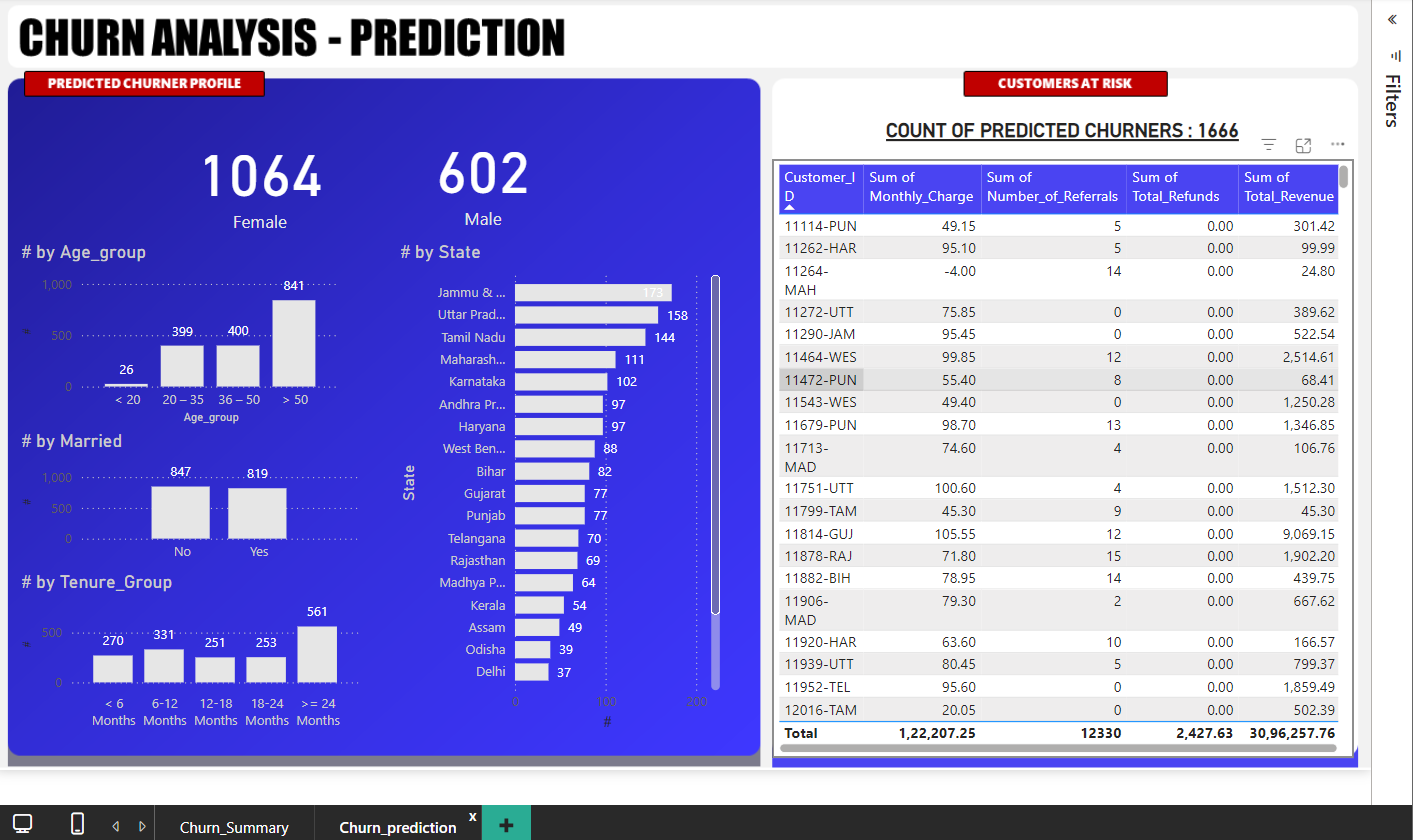

The dashboard page shown, as its layout file describes it:
{"tool":"powerbi","page":{"name":"Churn_prediction","canvas":[1280,720],"ordinal":1},"visuals":[{"type":"card","fields":{"Values":["tbl_measure.Title Predicted Churners"]},"box":[809.6,97.4,367.8,53.5],"z":0},{"type":"tableEx","fields":{"Values":["Predictions.Customer_ID","Sum(Predictions.Monthly_Charge)","Sum(Predictions.Number_of_Referrals)","Sum(Predictions.Total_Refunds)","Sum(Predictions.Total_Revenue)"]},"box":[723.2,150.9,540.7,557.1],"z":1000},{"type":"card","fields":{"Values":["tbl_measure.Count Predicted Churner"]},"box":[149.6,111.1,193.5,116.6],"z":2000},{"type":"card","fields":{"Values":["tbl_measure.Count Predicted Churner"]},"box":[343.1,109.8,222.3,116.6],"z":3000},{"type":"clusteredColumnChart","fields":{"Category":["age.Age_group"],"Y":["CountNonNull(Predictions.Customer_ID)"]},"box":[19.2,226.4,306,175.6],"z":4000},{"type":"clusteredColumnChart","fields":{"Category":["Predictions.Married"],"Y":["CountNonNull(Predictions.Customer_ID)"]},"box":[19.2,402.1,323.8,131.7],"z":5000},{"type":"clusteredColumnChart","fields":{"Category":["tenure.Tenure_Group"],"Y":["CountNonNull(Predictions.Customer_ID)"]},"box":[19.2,533.8,323.8,155.1],"z":6000},{"type":"clusteredBarChart","fields":{"Y":["CountNonNull(Predictions.Customer_ID)"],"Category":["Predictions.State"]},"box":[371.9,226.4,307.4,461.1],"z":7000}]}

Visuals, with their boxes on the page's 1280x720 design canvas (x1, y1, x2, y2). These are canvas units, not pixel positions in the 1413x840 screenshot, which may show the page scaled, cropped or inside an application window:
card - tbl_measure.Title Predicted Churners: [810,97,1177,151]
tableEx - Predictions.Customer_ID x Sum(Predictions.Monthly_Charge): [723,151,1264,708]
card - tbl_measure.Count Predicted Churner: [150,111,343,228]
card - tbl_measure.Count Predicted Churner: [343,110,565,226]
clusteredColumnChart - age.Age_group x CountNonNull(Predictions.Customer_ID): [19,226,325,402]
clusteredColumnChart - Predictions.Married x CountNonNull(Predictions.Customer_ID): [19,402,343,534]
clusteredColumnChart - tenure.Tenure_Group x CountNonNull(Predictions.Customer_ID): [19,534,343,689]
clusteredBarChart - CountNonNull(Predictions.Customer_ID) x Predictions.State: [372,226,679,688]
